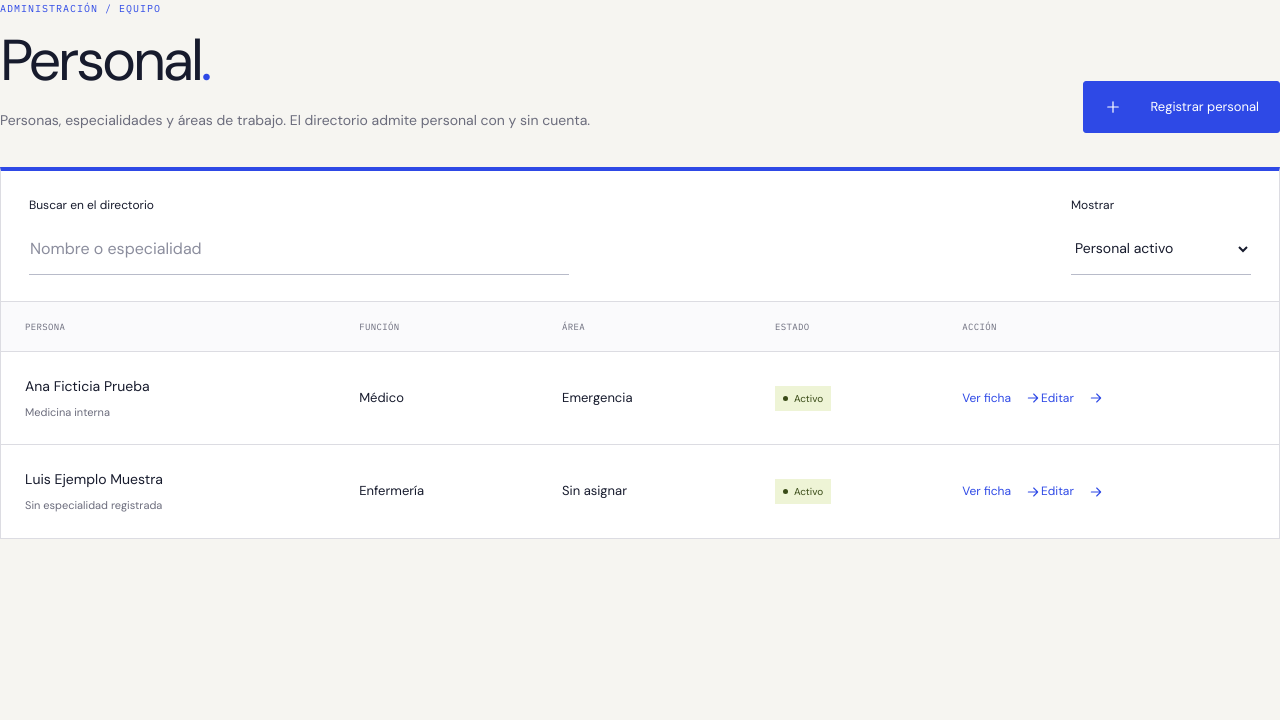
Test: W08 · ficha de personal › muestra solo los turnos próximos publicados de esa persona, en orden
Click the button with aria-label "Ver ficha de Ana" at coordinates (1002, 398), box [962,376,1041,420]
(page scrolled)
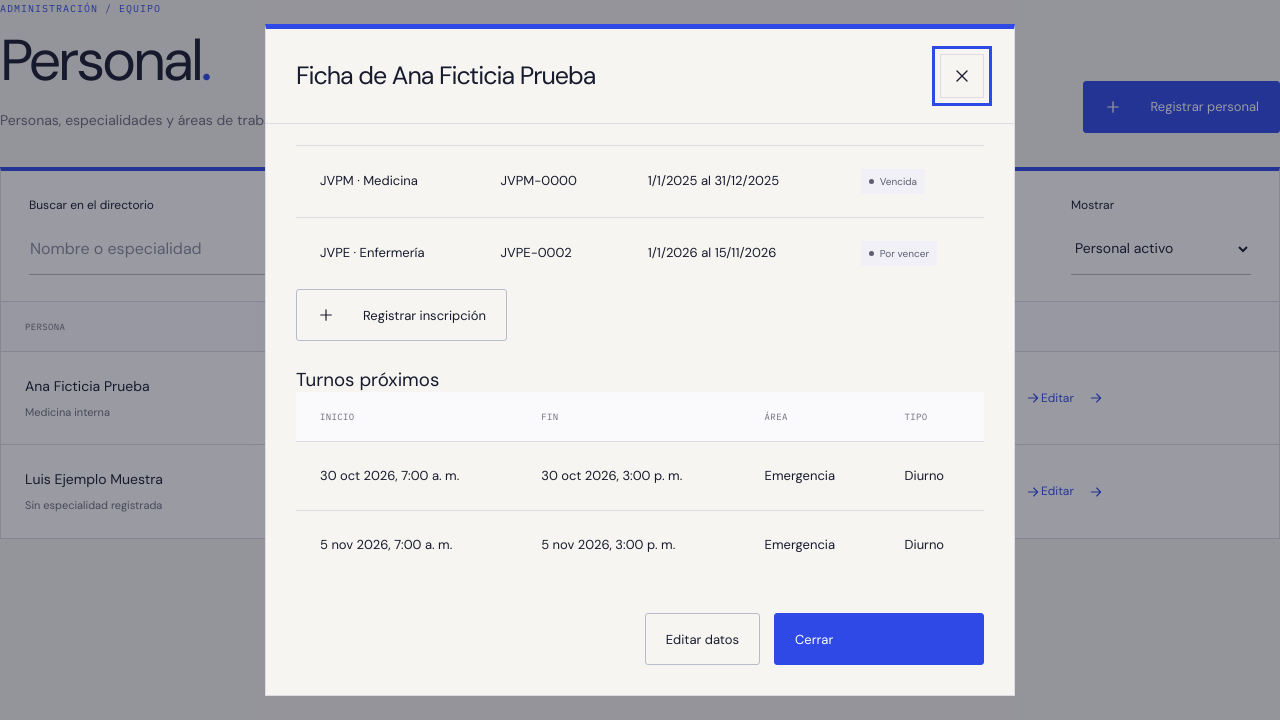
Expected: the cell "30 oct 2026, 7:00 a. m." is shown, [296,442,517,511]
Expected: the cell "5 nov 2026, 7:00 a. m." is shown, [296,511,517,579]
